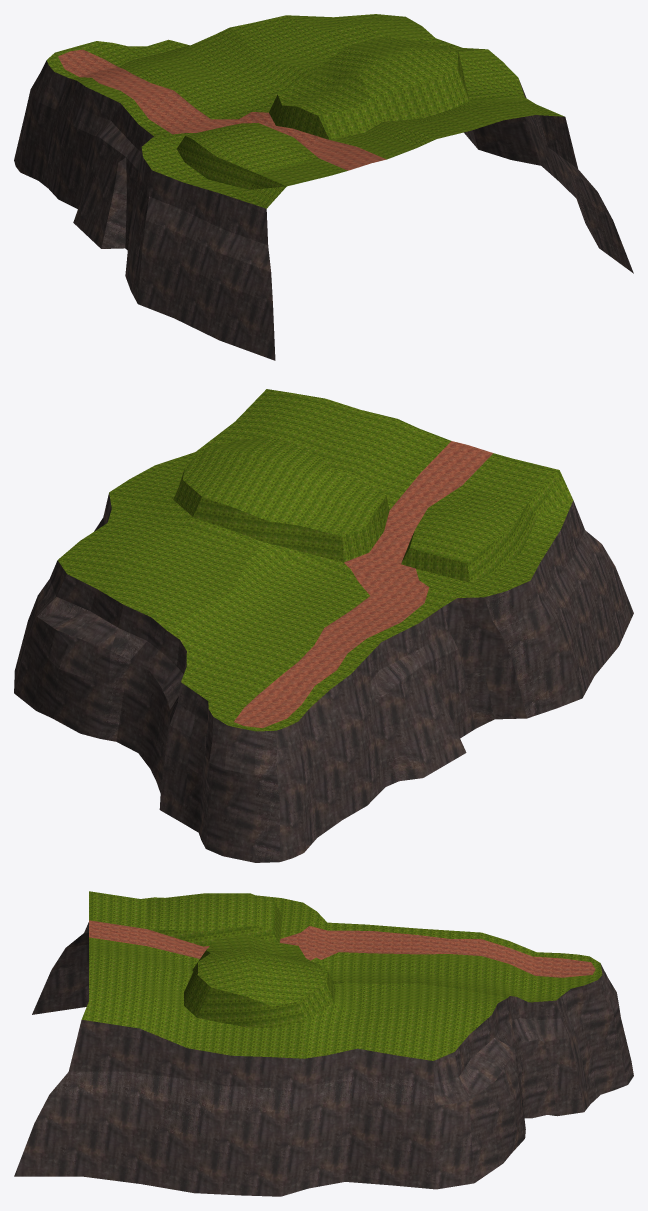
The model's file is Island_1_01.fbx.
The picture shows the model from 3 angles, top to bottom: view 1: azimuth 30°, elevation 25°; view 2: azimuth 150°, elevation 25°; view 3: azimuth 270°, elevation 25°; orthographic projection. The views are drawn at different scales.
Parts seen in each view (by area): view 1: Island_1_01; view 2: Island_1_01; view 3: Island_1_01.
Part boxes in pixels (x1,y1,x2,y2): Island_1_01: (14, 14, 633, 360); Island_1_01: (14, 389, 633, 862); Island_1_01: (14, 891, 633, 1196).
Bounding box in the file's own units: 12649 × 15635 × 5360.
